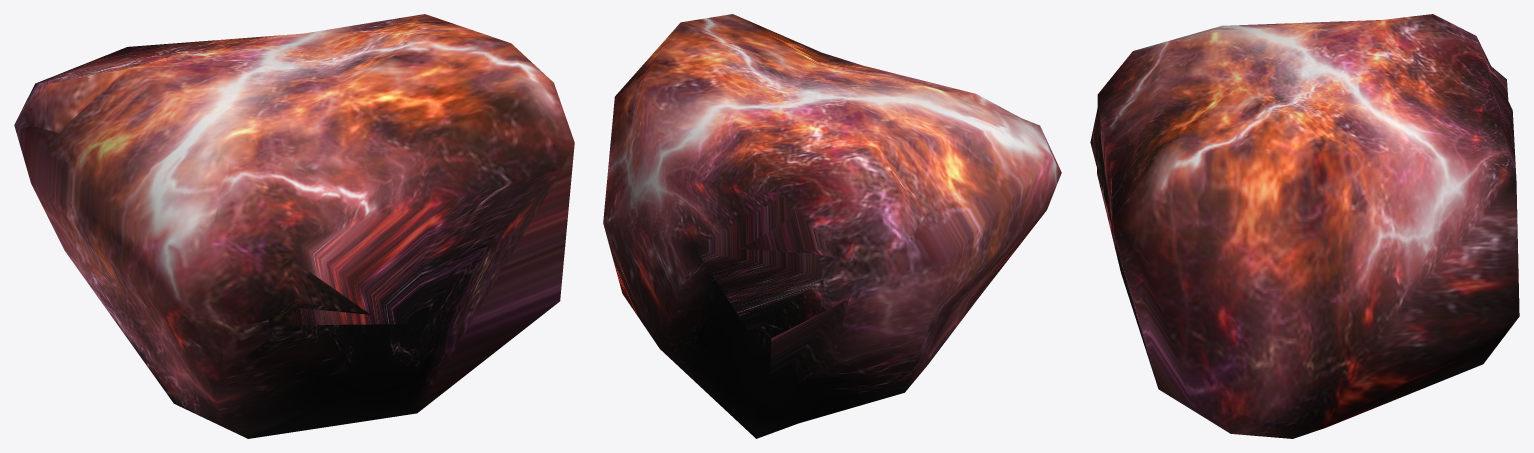
Rendered from Virus4_MOBILE.FBX.
The picture shows the model from 3 angles, left to right: view 1: azimuth 30°, elevation 25°; view 2: azimuth 150°, elevation 25°; view 3: azimuth 270°, elevation 25°; orthographic projection. The views are drawn at different scales.
Visible parts, largest first — view 1: Virus4; view 2: Virus4; view 3: Virus4.
Boxes of the visible parts, <box> form: Virus4: <box>14,14,574,438</box>; Virus4: <box>603,14,1061,438</box>; Virus4: <box>1090,14,1519,438</box>.
Bounding box in the file's own units: 2.95 × 2.25 × 2.61.
